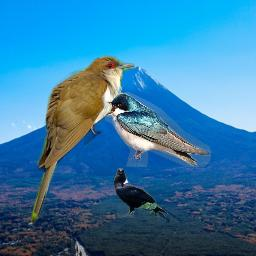Crow: (113, 168, 169, 218)
Cuckoo: (31, 54, 135, 227)
Swallow: (104, 92, 211, 167)
